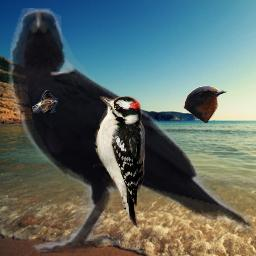Crow: (7, 8, 254, 253)
Swallow: (183, 85, 227, 123), (32, 90, 58, 113)
Woodpecker: (93, 96, 145, 228)
